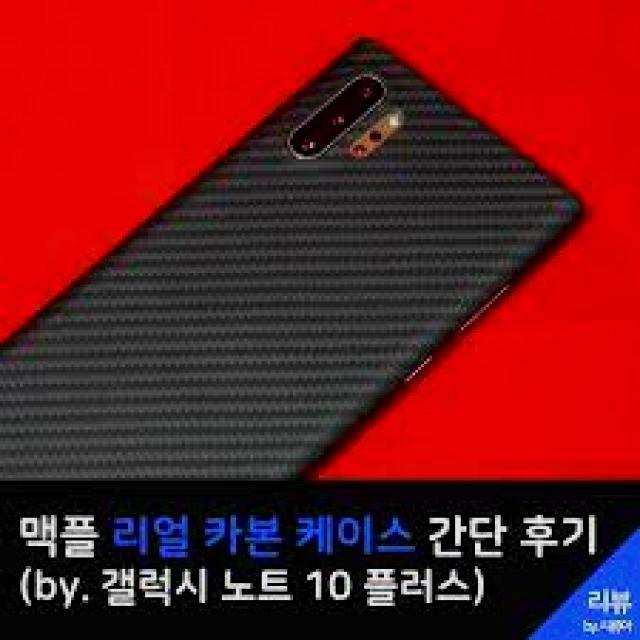lens: (289, 72, 398, 159)
phone: (0, 36, 585, 485)
